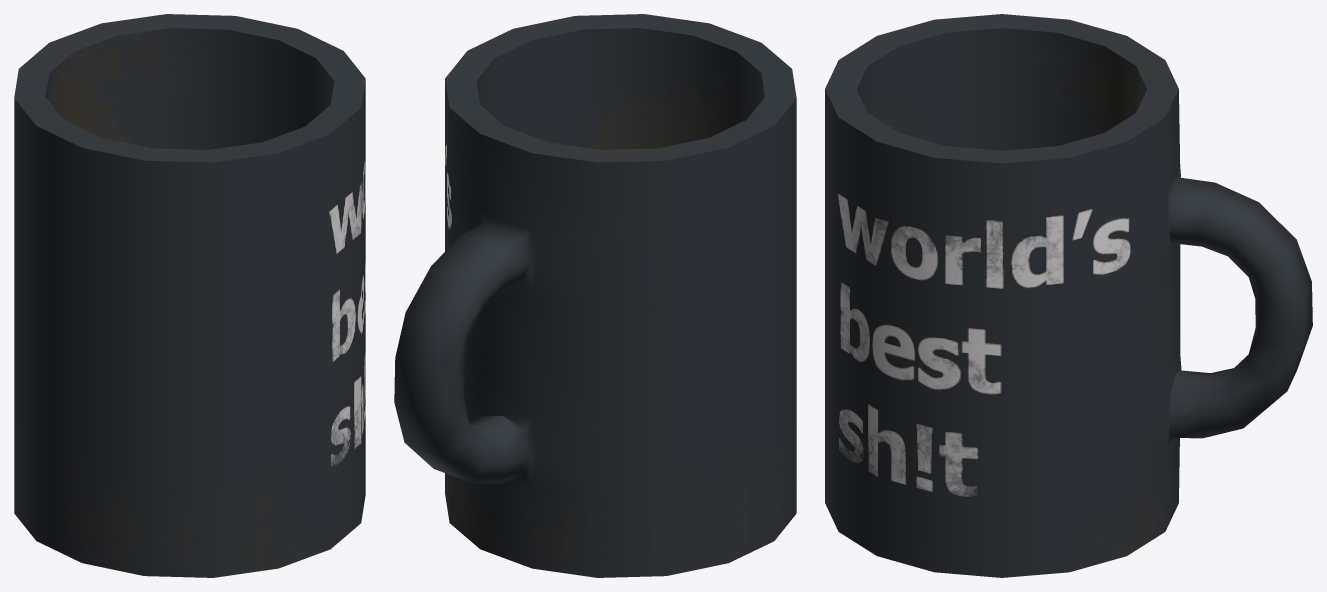
File: cup.glb
3 renders of one model, left to right at view 1: azimuth 30°, elevation 25°; view 2: azimuth 150°, elevation 25°; view 3: azimuth 270°, elevation 25°, orthographic.
Parts seen in each view (by area): view 1: Object_10; view 2: Object_10; view 3: Object_10.
Part boxes in pixels (x1,y1,x2,y2): Object_10: (14, 14, 365, 577); Object_10: (394, 14, 796, 577); Object_10: (825, 14, 1312, 577).
Size of the model in its own units: 0.5669 by 0.7352 by 0.7817.
1 material, 1 textured.
